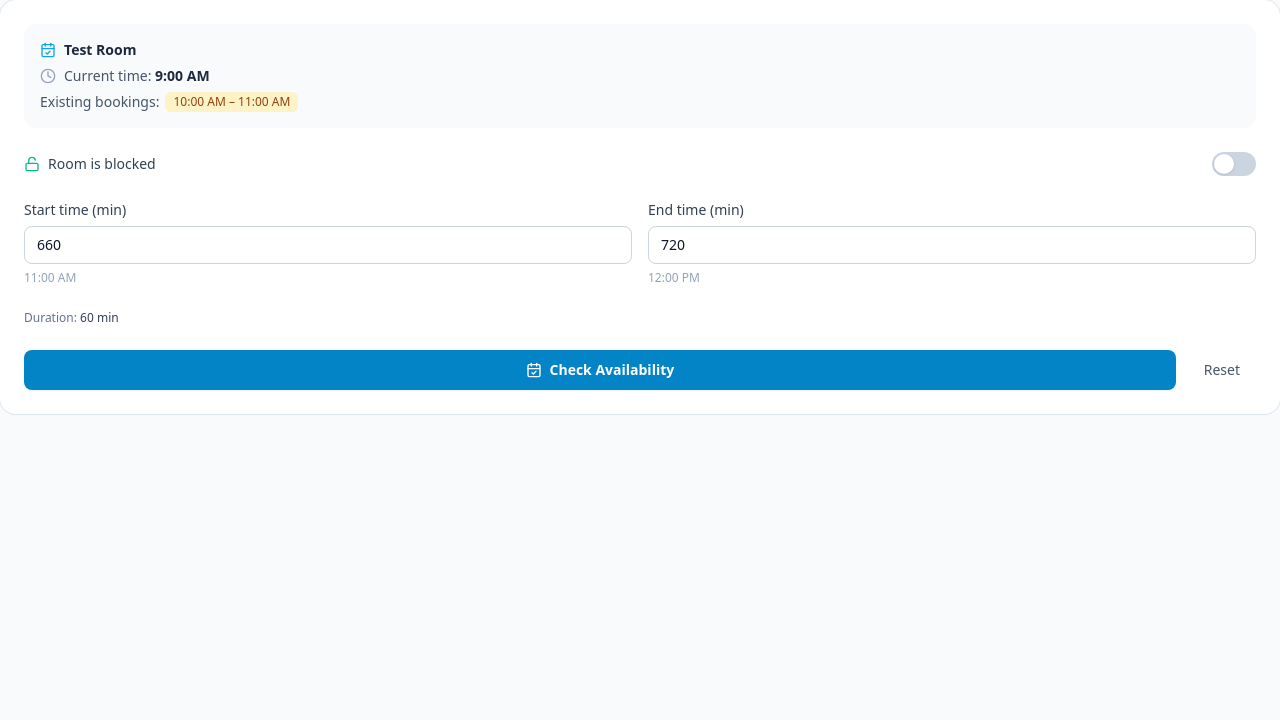
AvailabilityPanel › respects the blocked toggle: blocking makes the room unavailable
The image size is (1280, 720).
# turn on blocked
Click the switch.
click(1234, 164)  # box [1212,152,1256,176]
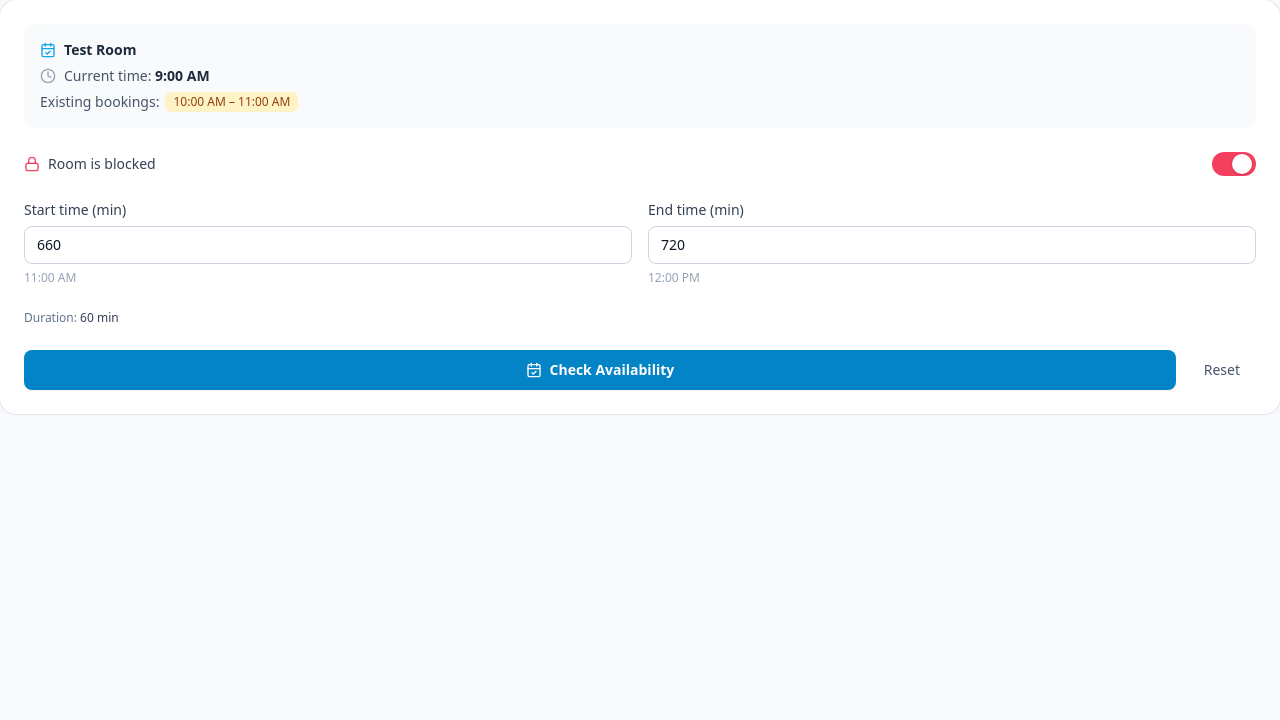
Click the button "Check Availability".
click(600, 370)  # box [24,350,1176,390]
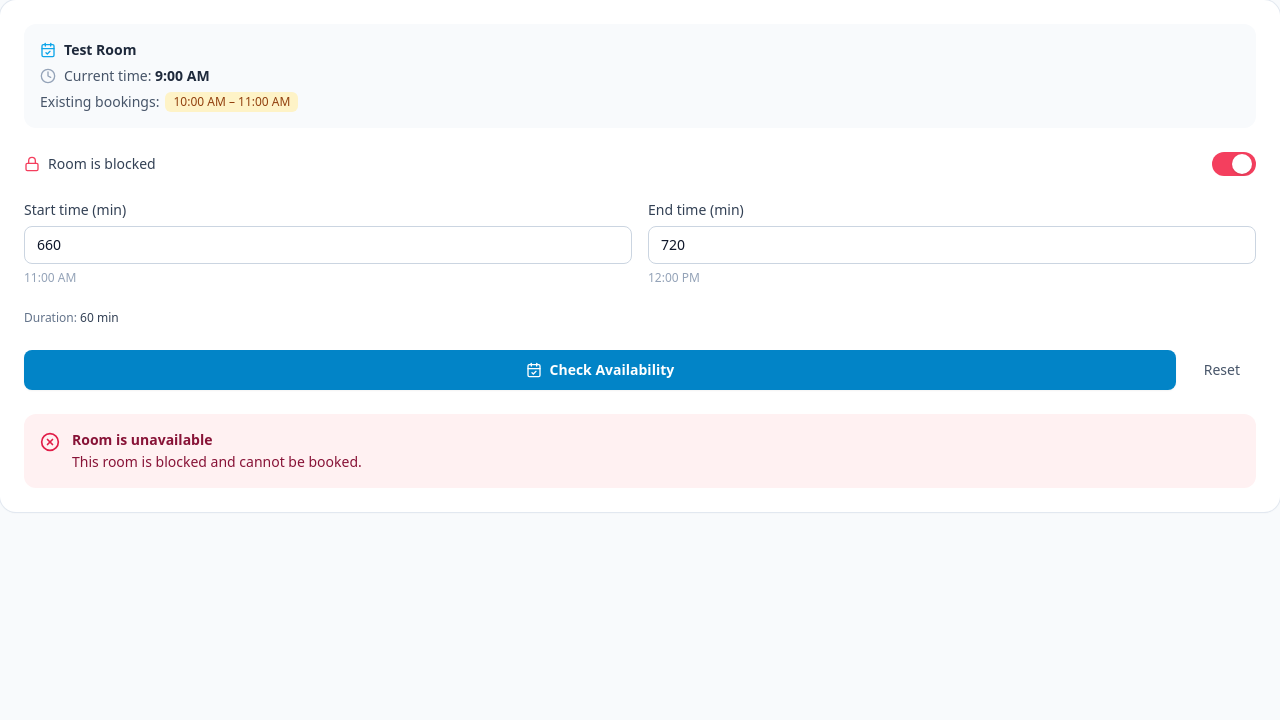
Expected: the text "Room is unavailable" is shown, [72,430,212,449]
Expected: the text "This room is blocked and cannot be booked." is shown, [72,452,362,472]
